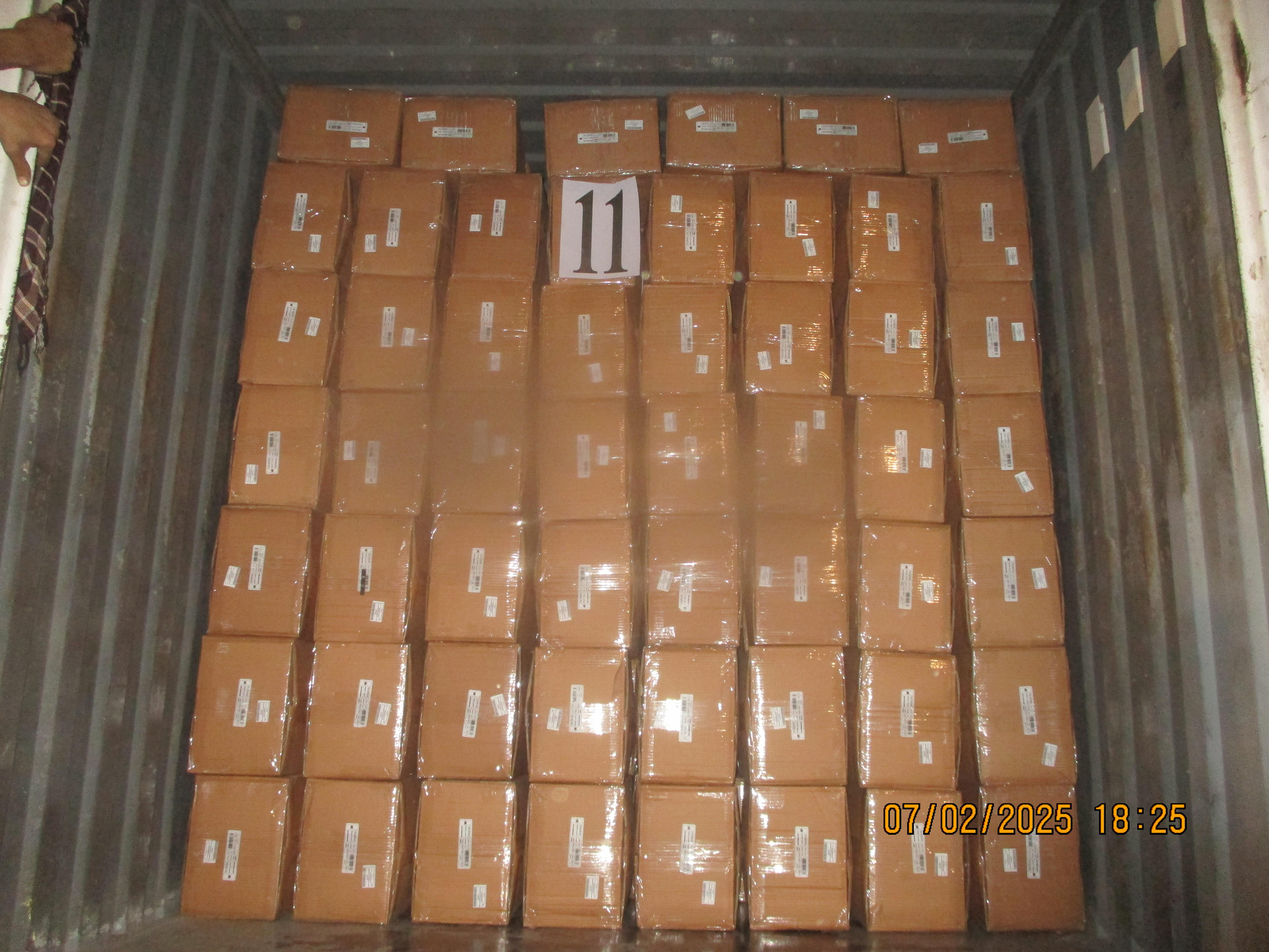carton: (292, 779, 418, 922), (844, 649, 968, 789), (187, 636, 311, 775), (181, 776, 301, 918), (848, 788, 967, 931), (966, 789, 1085, 931), (303, 641, 420, 779), (412, 780, 523, 925), (738, 785, 849, 930), (523, 783, 634, 927), (968, 646, 1077, 787), (208, 506, 324, 637), (633, 784, 737, 929), (417, 642, 526, 780), (738, 646, 846, 785), (425, 513, 539, 644), (953, 518, 1066, 648), (849, 519, 958, 653), (534, 518, 645, 649), (634, 645, 738, 784), (742, 512, 849, 646), (425, 389, 538, 515), (313, 513, 425, 640), (528, 646, 631, 783), (736, 392, 848, 514), (535, 397, 645, 520), (644, 512, 744, 646), (843, 394, 946, 522), (947, 394, 1055, 516), (227, 384, 332, 509), (533, 281, 642, 399), (327, 391, 429, 514), (333, 272, 437, 390), (638, 282, 743, 396), (237, 268, 339, 385), (643, 392, 740, 514), (433, 276, 535, 391), (942, 281, 1041, 394), (735, 170, 835, 281), (841, 280, 936, 396), (934, 171, 1034, 281), (833, 174, 935, 281), (546, 173, 645, 283), (251, 161, 349, 272), (348, 167, 447, 275), (641, 172, 736, 284), (276, 84, 402, 168), (742, 280, 833, 395), (664, 87, 783, 173), (446, 172, 541, 279), (782, 91, 903, 175), (897, 95, 1020, 175), (400, 95, 519, 173), (545, 96, 661, 176)
